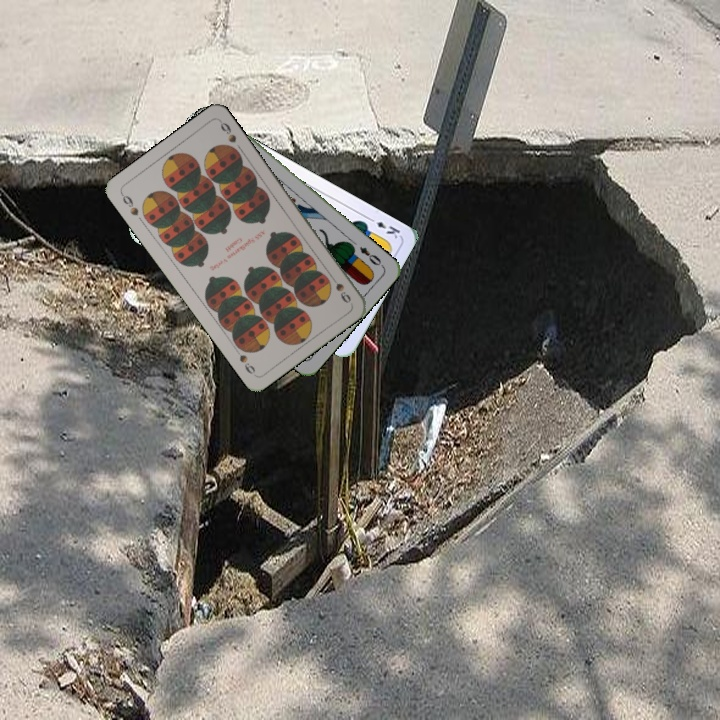EK: (364, 213, 403, 241)
EO: (355, 242, 386, 270)
S9: (325, 270, 354, 306), (117, 189, 141, 218)
